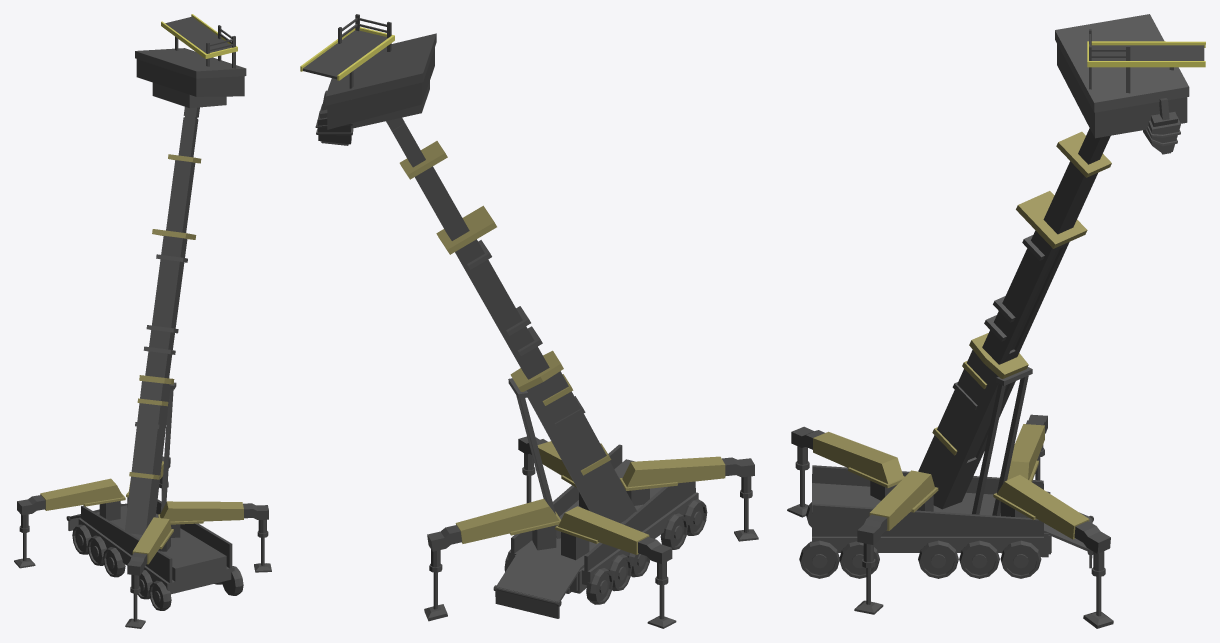
File: Crane.fbx
3 renders of one model, left to right at view 1: azimuth 30°, elevation 25°; view 2: azimuth 150°, elevation 25°; view 3: azimuth 270°, elevation 25°, orthographic. The views are drawn at different scales.
Parts seen in each view (by area): view 1: Grue; view 2: Grue; view 3: Grue.
Part boxes in pixels (bbox=[...]): Grue: bbox=[14, 14, 271, 628]; Grue: bbox=[300, 14, 758, 628]; Grue: bbox=[787, 14, 1205, 628].
Size of the model in its own units: 1742 by 3141 by 1921.
